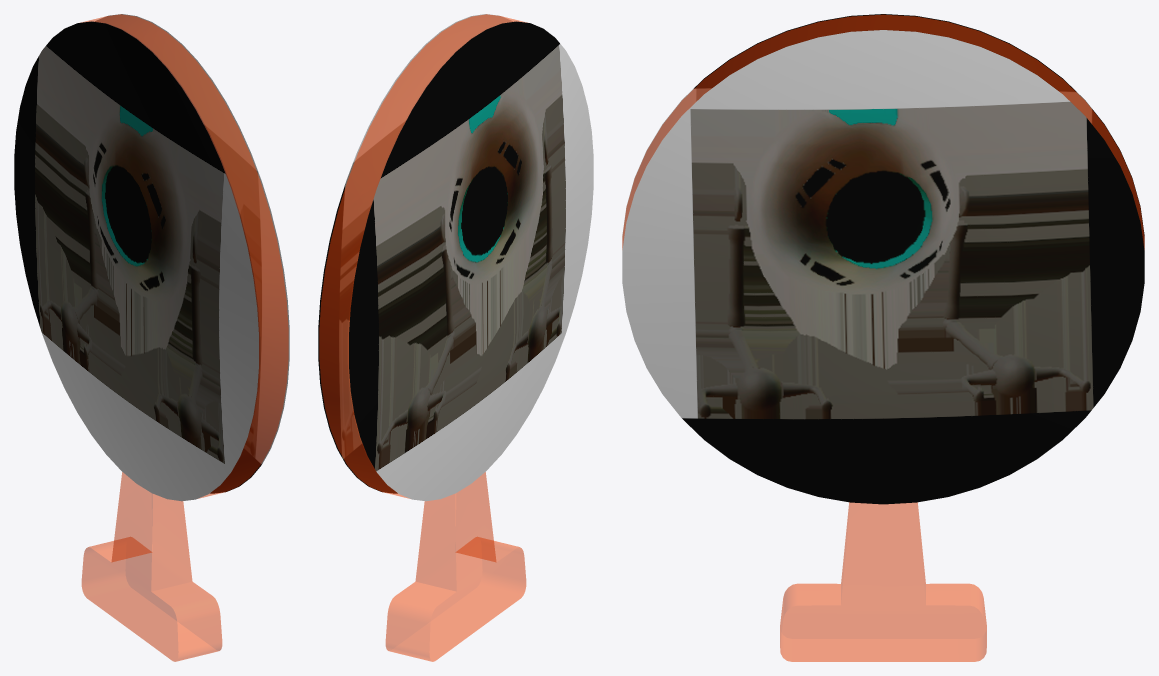
The model's file is cartel.fbx.
3 views of the same model, side by side, from view 1: azimuth 30°, elevation 25°; view 2: azimuth 150°, elevation 25°; view 3: azimuth 270°, elevation 25° (orthographic). The views are drawn at different scales.
Parts seen in each view (by area): view 1: polySurface2, polySurface1; view 2: polySurface2, polySurface1; view 3: polySurface2, polySurface1.
Part boxes in pixels (x1,y1,x2,y2): polySurface2: [14, 14, 289, 501]; polySurface1: [81, 14, 288, 661]; polySurface2: [318, 14, 593, 501]; polySurface1: [319, 14, 526, 661]; polySurface2: [622, 14, 1144, 504]; polySurface1: [622, 14, 1144, 661].
Bounding box in the file's own units: 1.04 × 11.24 × 8.47.
2 materials, 1 textured.
